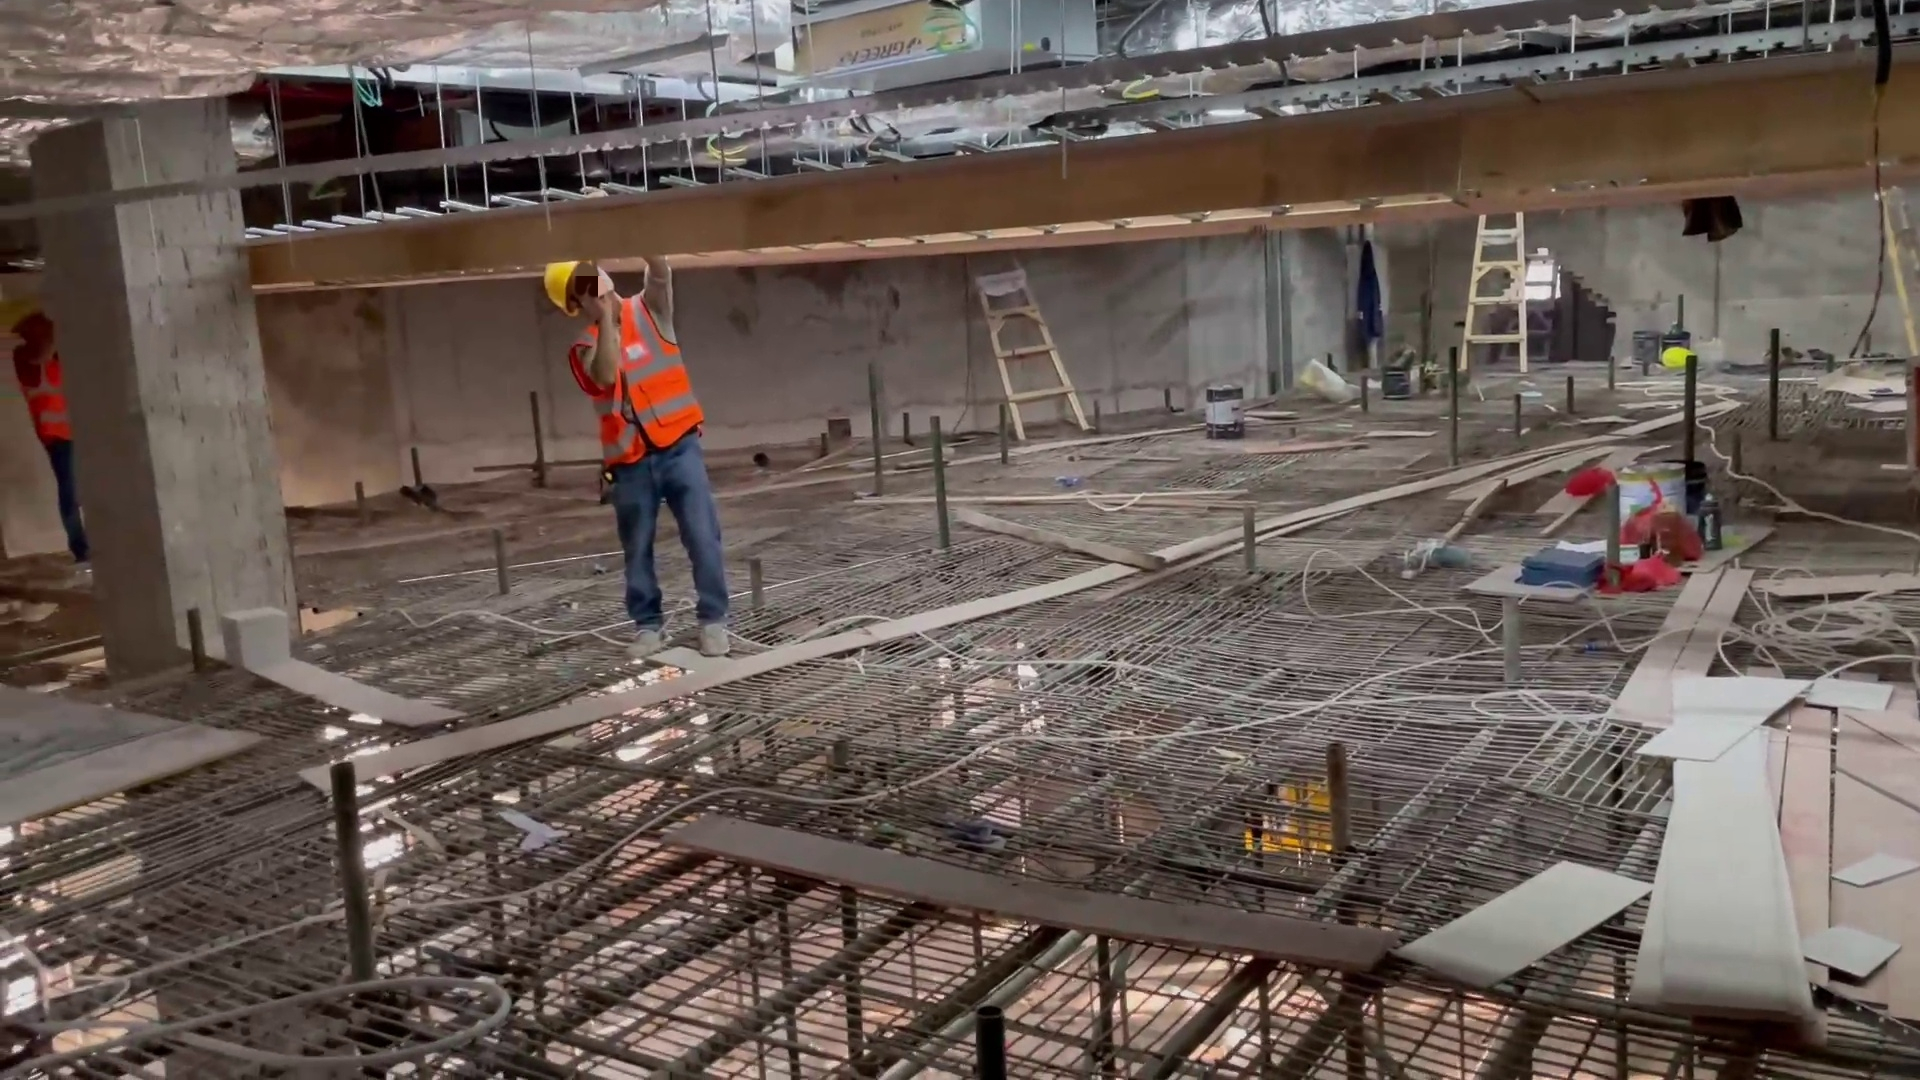helmet: (544, 255, 582, 319), (1662, 345, 1695, 369)
person: (535, 243, 738, 653), (14, 306, 104, 567)
vest: (581, 306, 699, 458), (18, 346, 78, 447)
